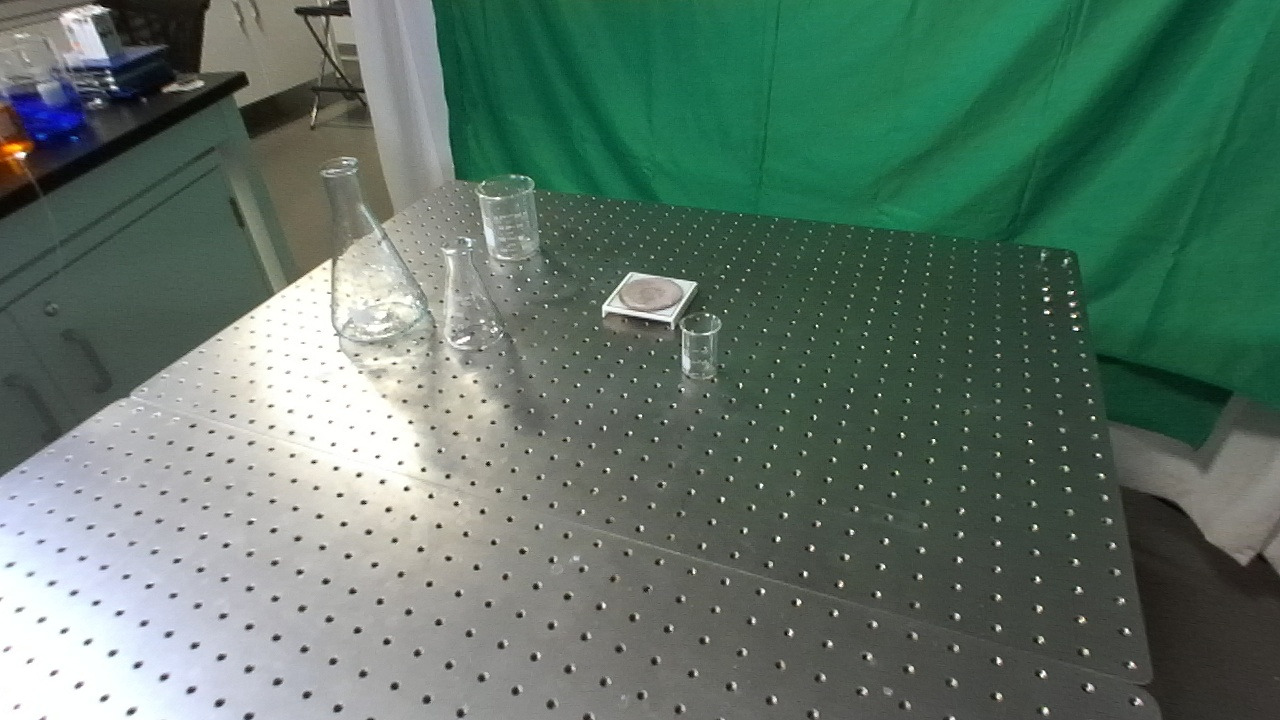glass: (314, 154, 431, 344), (436, 235, 511, 354), (474, 171, 544, 264), (676, 309, 723, 382)
plate: (601, 269, 702, 327)
